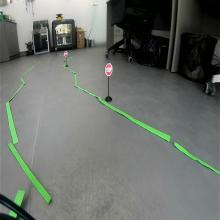stop: (104, 63, 114, 76)
